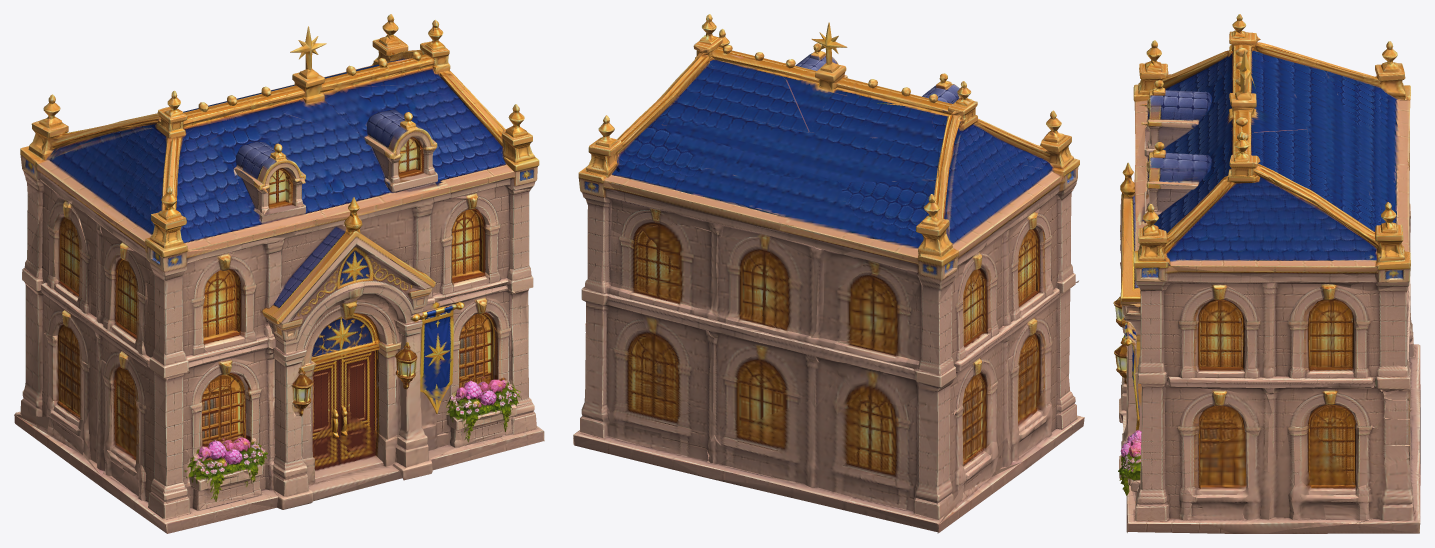
The model's file is library.glb.
The picture shows the model from 3 angles, left to right: view 1: azimuth 30°, elevation 25°; view 2: azimuth 150°, elevation 25°; view 3: azimuth 270°, elevation 25°; orthographic projection. The views are drawn at different scales.
Visible parts, largest first — view 1: Mesh_0; view 2: Mesh_0; view 3: Mesh_0.
Part boxes in pixels (<box>): Mesh_0: <box>14,14,544,533</box>; Mesh_0: <box>573,14,1084,533</box>; Mesh_0: <box>1113,14,1420,533</box>.
Bounding box in the file's own units: 1.82 × 1.9 × 1.32.
1 material, 1 textured.
